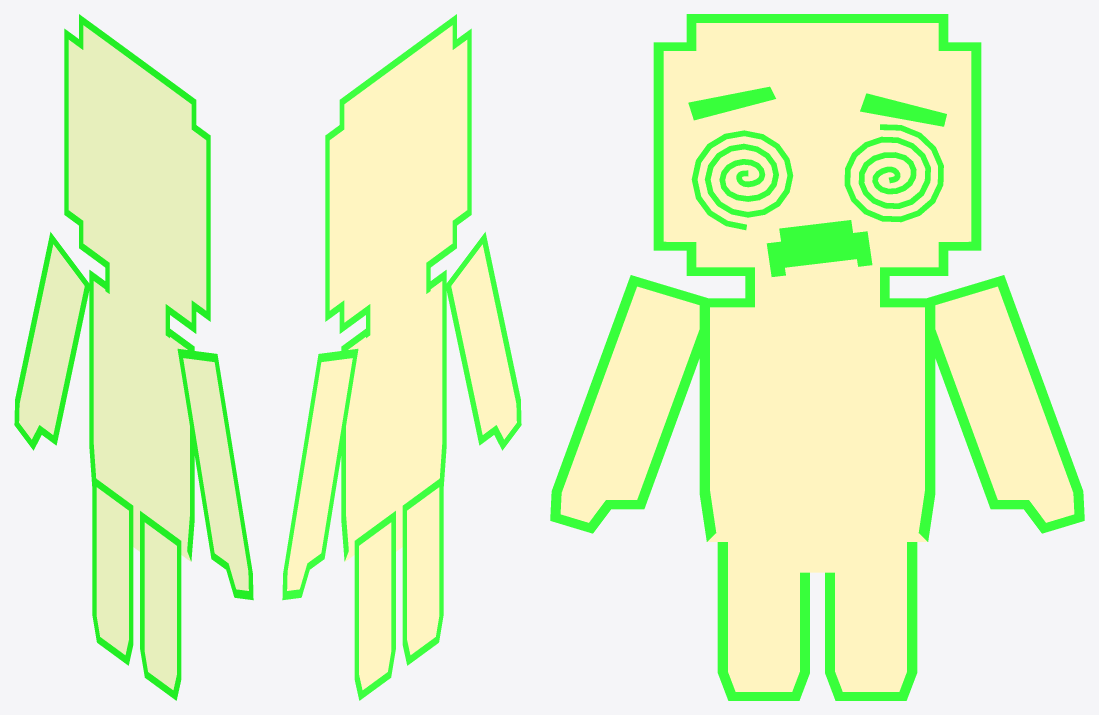
File: ANXIETY (Front).fbx
The picture shows the model from 3 angles, left to right: view 1: azimuth 30°, elevation 25°; view 2: azimuth 150°, elevation 25°; view 3: azimuth 270°, elevation 25°; orthographic projection. The views are drawn at different scales.
Parts seen in each view (by area): view 1: Plane.090, Plane.087, Plane.097, Plane.086; view 2: Plane.090, Plane.087, Plane.097, Plane.086; view 3: Plane.090, Plane.087, Plane.097, Plane.086, BézierCurve.001, Plane.036, Plane.060, Plane.040.
Boxes of the visible parts, left/top/right/bottom form: Plane.090: left=64, top=14, right=210, bottom=337; Plane.087: left=89, top=270, right=194, bottom=561; Plane.097: left=14, top=232, right=253, bottom=600; Plane.086: left=92, top=476, right=181, bottom=700; Plane.090: left=325, top=14, right=471, bottom=337; Plane.087: left=341, top=270, right=446, bottom=561; Plane.097: left=282, top=232, right=521, bottom=600; Plane.086: left=354, top=476, right=443, bottom=700; Plane.090: left=653, top=14, right=981, bottom=298; Plane.087: left=699, top=298, right=935, bottom=572; Plane.097: left=550, top=275, right=1084, bottom=533; Plane.086: left=717, top=542, right=917, bottom=700; BézierCurve.001: left=691, top=124, right=943, bottom=230; Plane.036: left=766, top=220, right=872, bottom=276; Plane.060: left=860, top=93, right=946, bottom=126; Plane.040: left=688, top=86, right=775, bottom=120.
Bounding box in the file's own units: 5.95 × 410 × 289.
